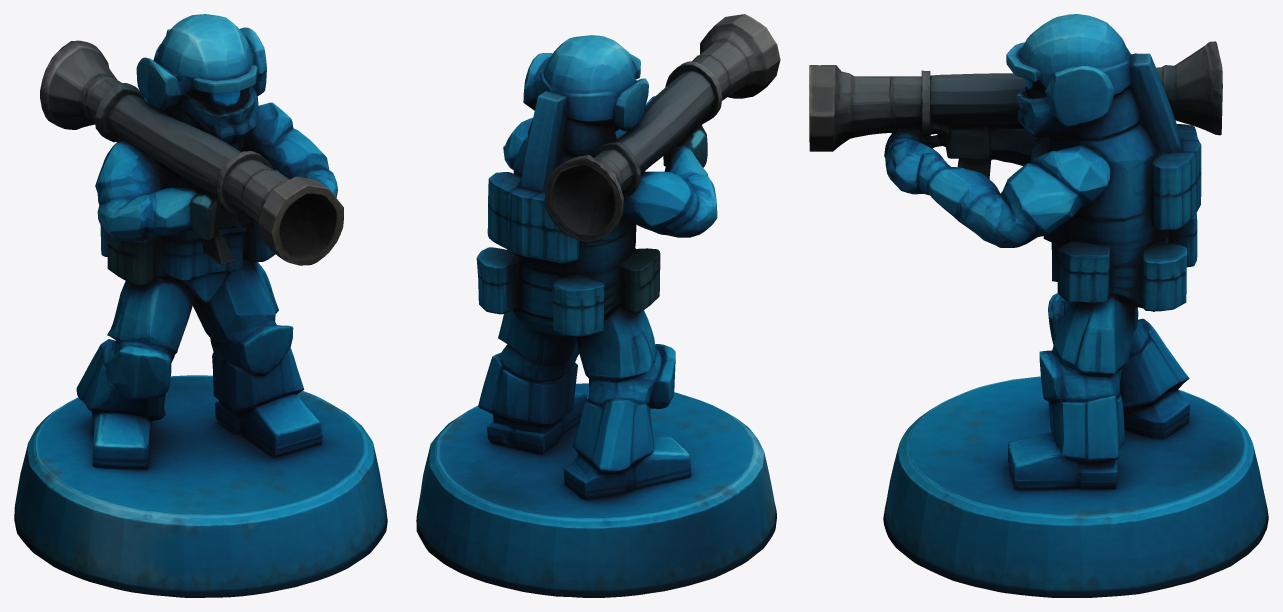
File: player-rocket.glb
3 views of the same model, side by side, from view 1: azimuth 30°, elevation 25°; view 2: azimuth 150°, elevation 25°; view 3: azimuth 270°, elevation 25° (orthographic). The views are drawn at different scales.
Parts seen in each view (by area): view 1: world; view 2: world; view 3: world.
Boxes of the visible parts, x1,y1,x2,y2 form: world: (14, 14, 387, 597); world: (416, 14, 780, 597); world: (809, 14, 1268, 597).
Bounding box in the file's own units: 0.6819 × 1 × 0.8305.
Materials: 1 (1 with a texture image).
